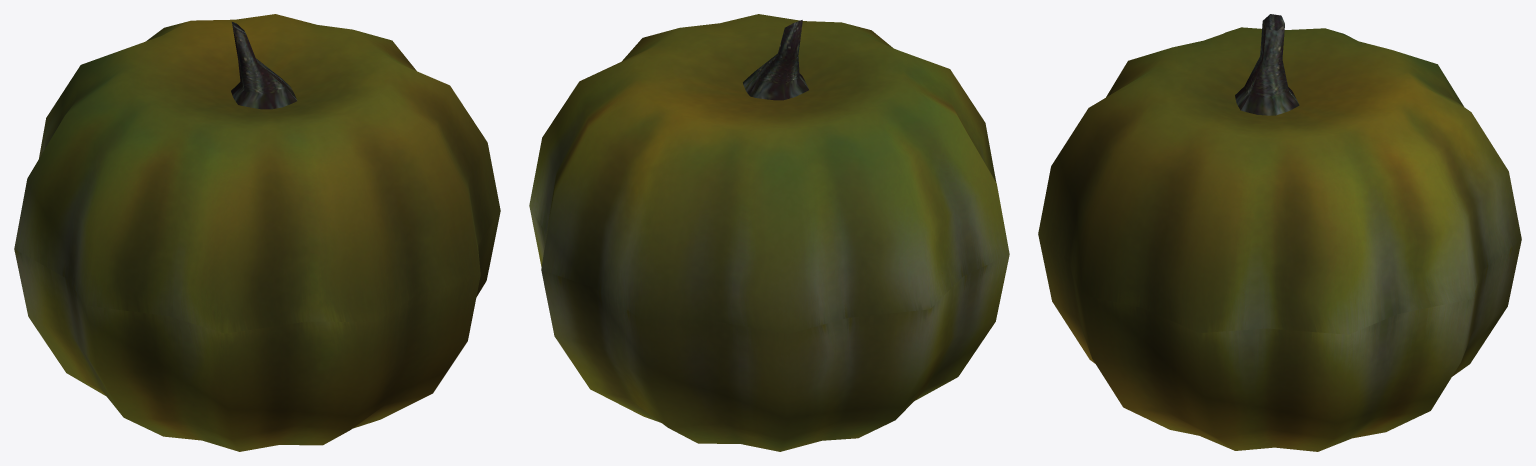
File: pumpkin_green.fbx
3 views of the same model, side by side, from view 1: azimuth 30°, elevation 25°; view 2: azimuth 150°, elevation 25°; view 3: azimuth 270°, elevation 25° (orthographic). The views are drawn at different scales.
Parts seen in each view (by area): view 1: pumpkin_green; view 2: pumpkin_green; view 3: pumpkin_green.
Part boxes in pixels (x1,y1,x2,y2): pumpkin_green: (14,14,500,451); pumpkin_green: (529,14,1009,451); pumpkin_green: (1038,14,1521,451).
Size of the model in its own units: 1.99 by 1.77 by 2.08.
